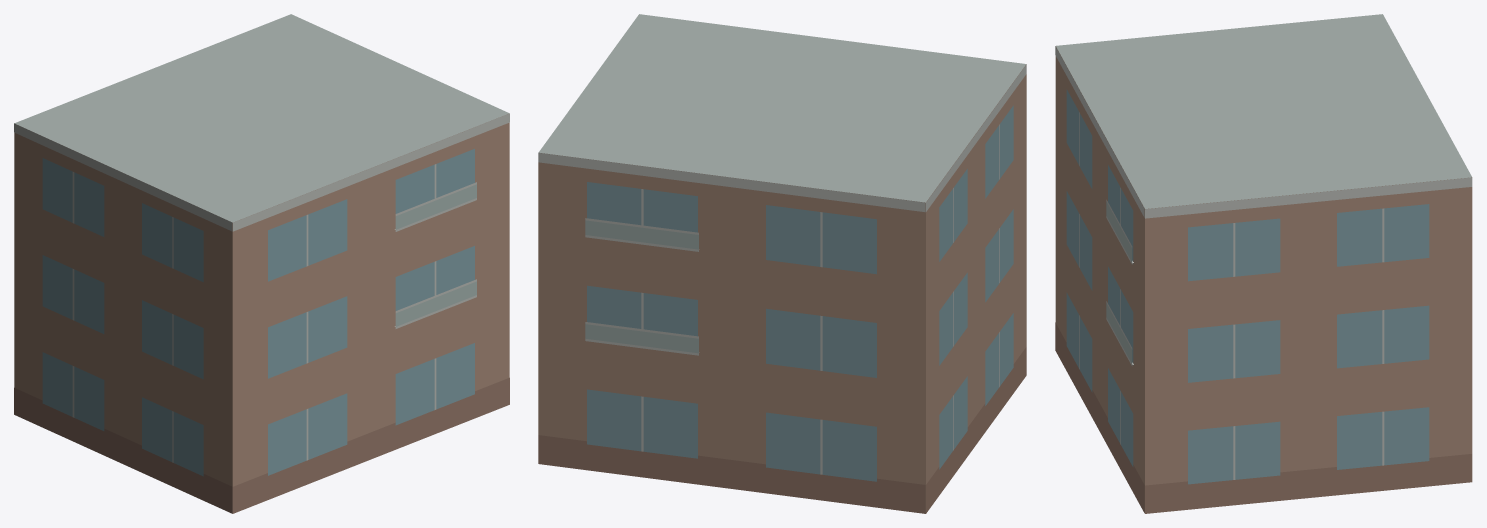
The model's file is survey-upis-32977756.glb.
3 renders of one model, left to right at view 1: azimuth 30°, elevation 25°; view 2: azimuth 150°, elevation 25°; view 3: azimuth 270°, elevation 25°, orthographic. The views are drawn at different scales.
Visible parts, largest first — view 1: survey-upis-32977756.tmp; view 2: survey-upis-32977756.tmp; view 3: survey-upis-32977756.tmp.
Part boxes in pixels (x1,y1,x2,y2): survey-upis-32977756.tmp: [14, 14, 509, 513]; survey-upis-32977756.tmp: [538, 14, 1026, 513]; survey-upis-32977756.tmp: [1055, 14, 1472, 513].
Bounding box in the file's own units: 10.72 × 7.8 × 9.68.
